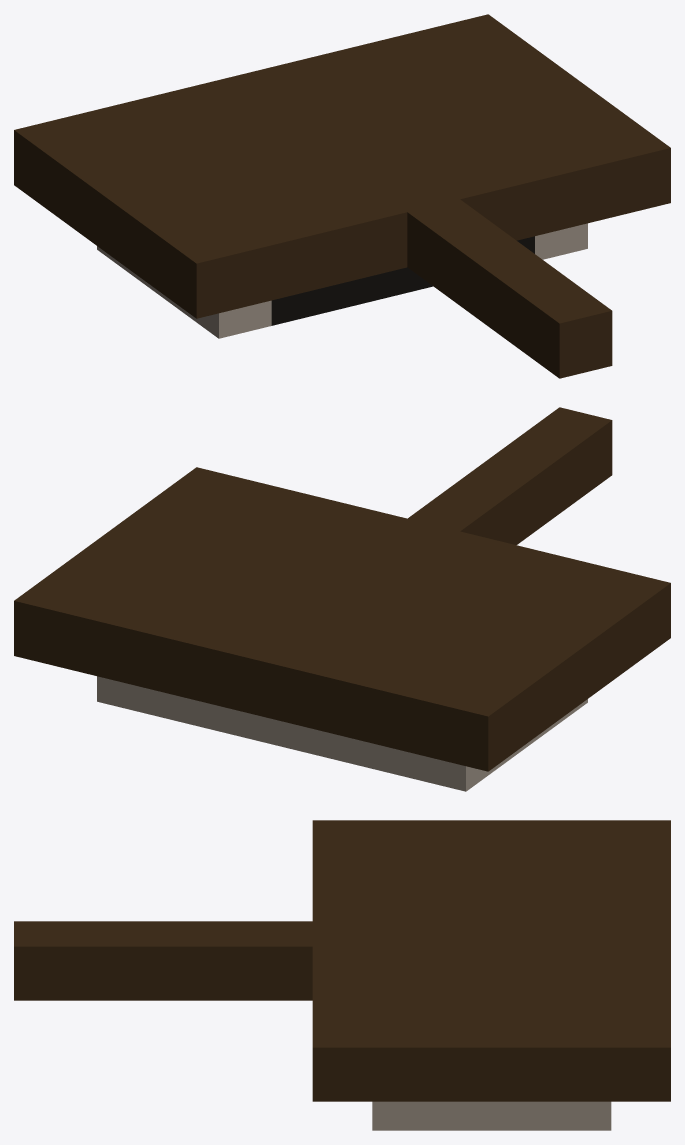
The model's file is sign.dae.
3 views of the same model, one above another, from view 1: azimuth 30°, elevation 25°; view 2: azimuth 150°, elevation 25°; view 3: azimuth 270°, elevation 25° (orthographic).
Visible parts, largest first — view 1: sign.Merged; view 2: sign.Merged; view 3: sign.Merged.
Boxes of the visible parts, <box> form: sign.Merged: <box>14,14,670,378</box>; sign.Merged: <box>14,407,670,791</box>; sign.Merged: <box>14,820,670,1130</box>.
Size of the model in its own units: 0.9 by 1.1 by 0.2.
